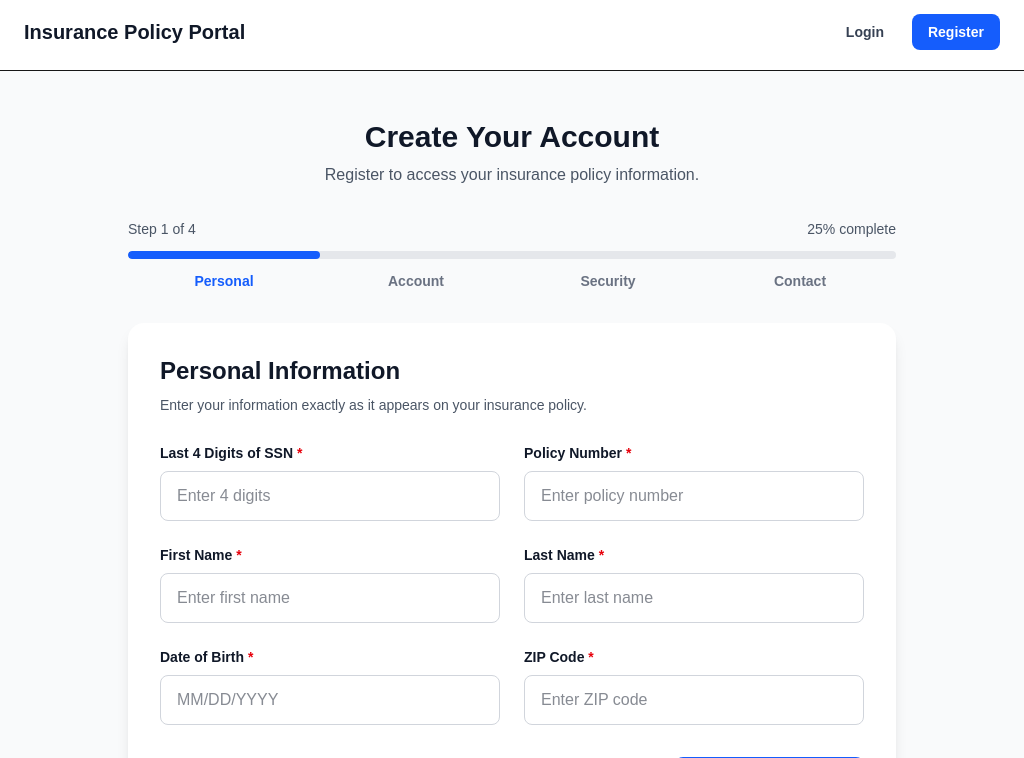
Test case: RegisterPage - Step 1 › should reject a policy number that does not match the accepted format
The image size is (1024, 758).
Type "1234" into the field with placeholder "Enter 4 digits".
click(330, 496); type("1234")  # box [160,471,500,521]
Type "invalid" into the field with placeholder "Enter policy number".
click(694, 496); type("invalid")  # box [524,471,864,521]
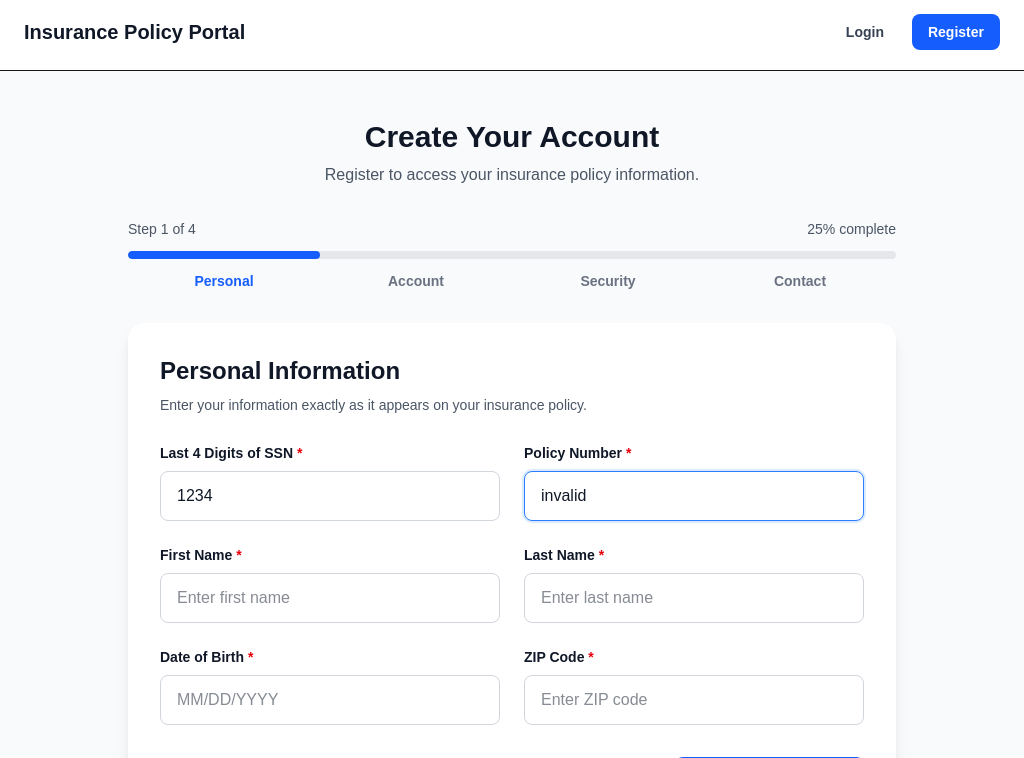
Type "John" into the field with placeholder "Enter first name".
click(330, 598); type("John")  # box [160,573,500,623]
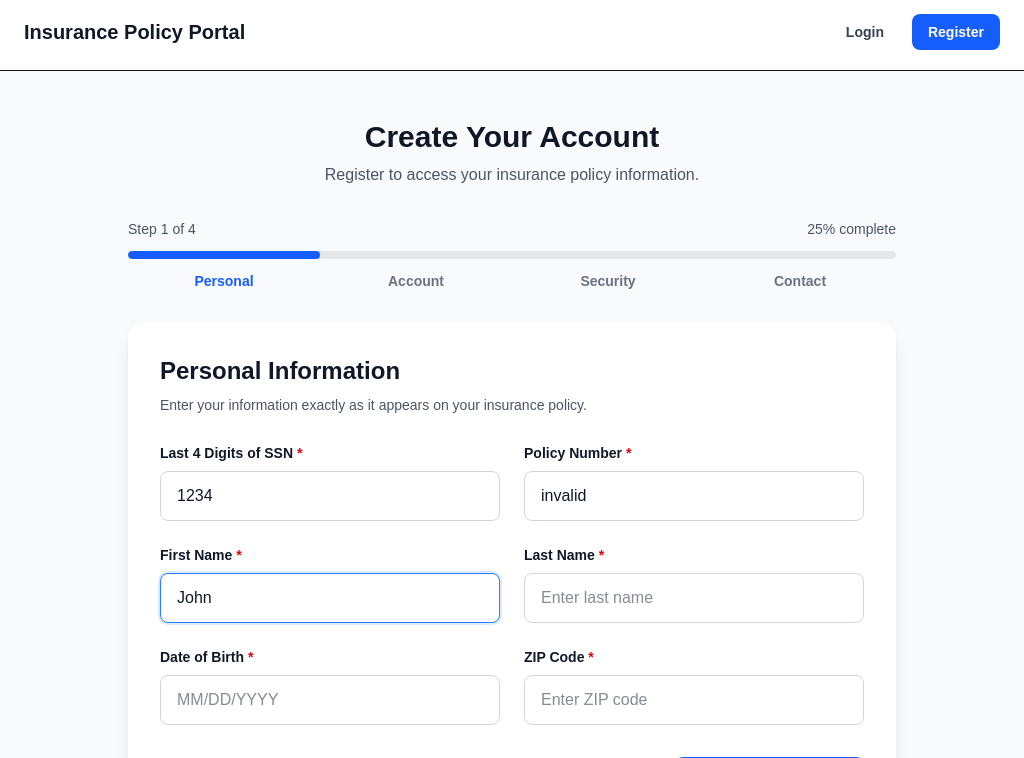
Type "Doe" into the field with placeholder "Enter last name".
click(694, 598); type("Doe")  # box [524,573,864,623]
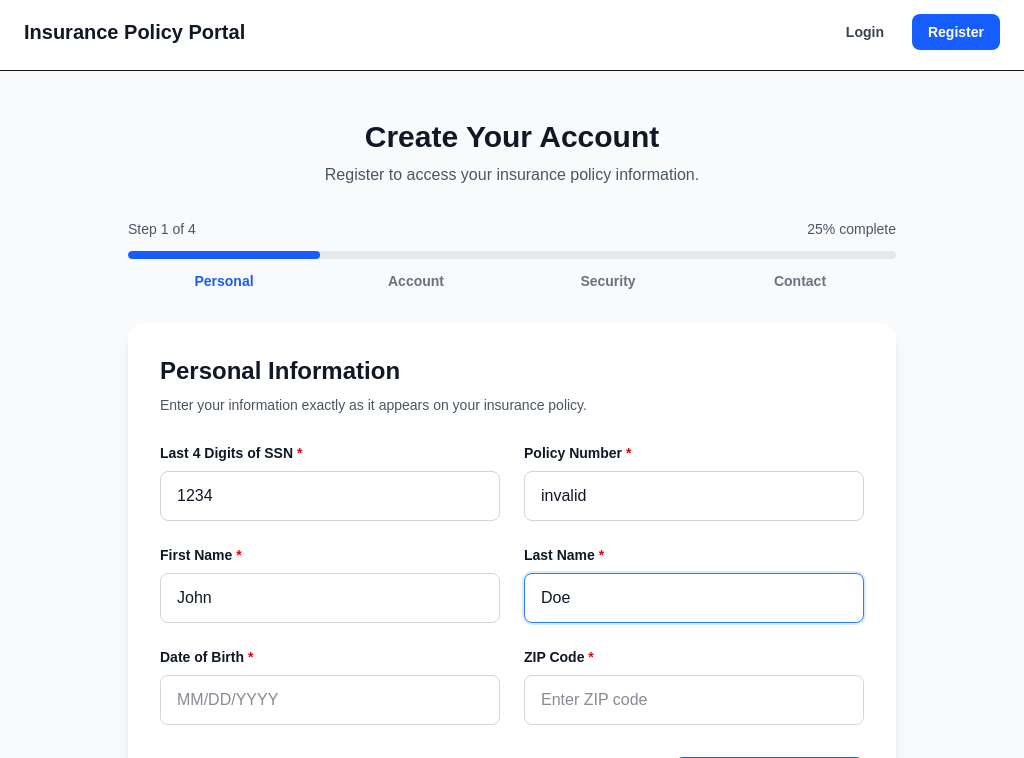
Type "01/15/1990" into the field with placeholder "MM/DD/YYYY".
click(330, 700); type("01/15/1990")  # box [160,675,500,725]
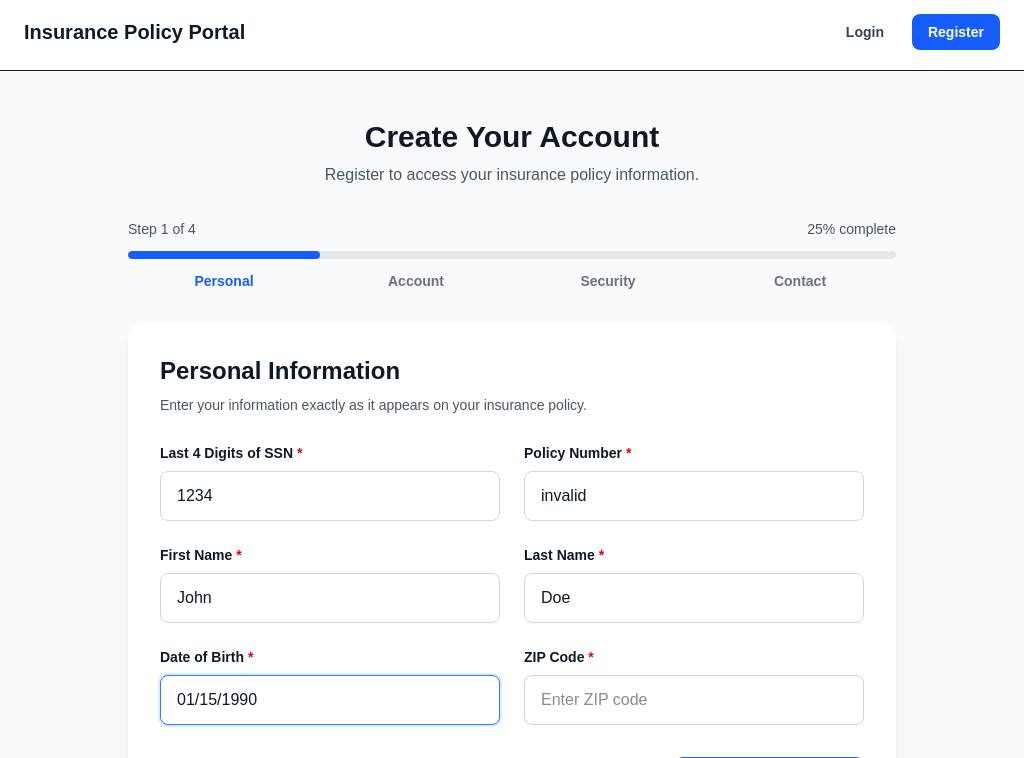
Type "12345" into the field with placeholder "Enter ZIP code".
click(694, 700); type("12345")  # box [524,675,864,725]
(page scrolled)
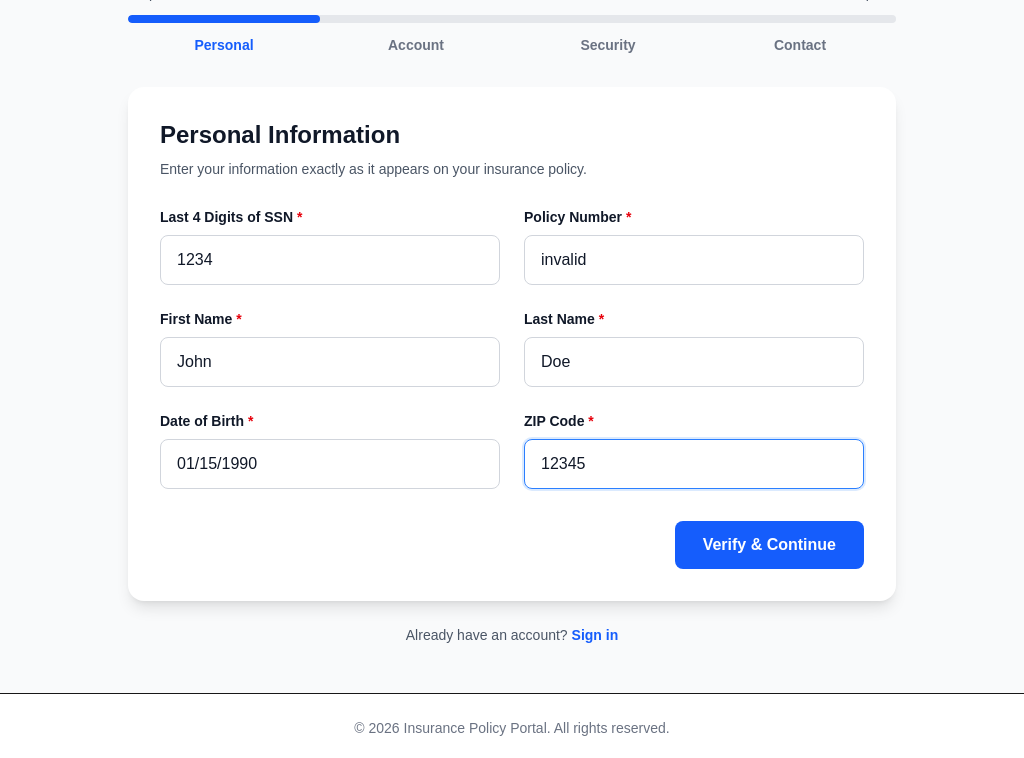
Click the button "Verify & Continue".
click(769, 545)  # box [675,521,864,569]
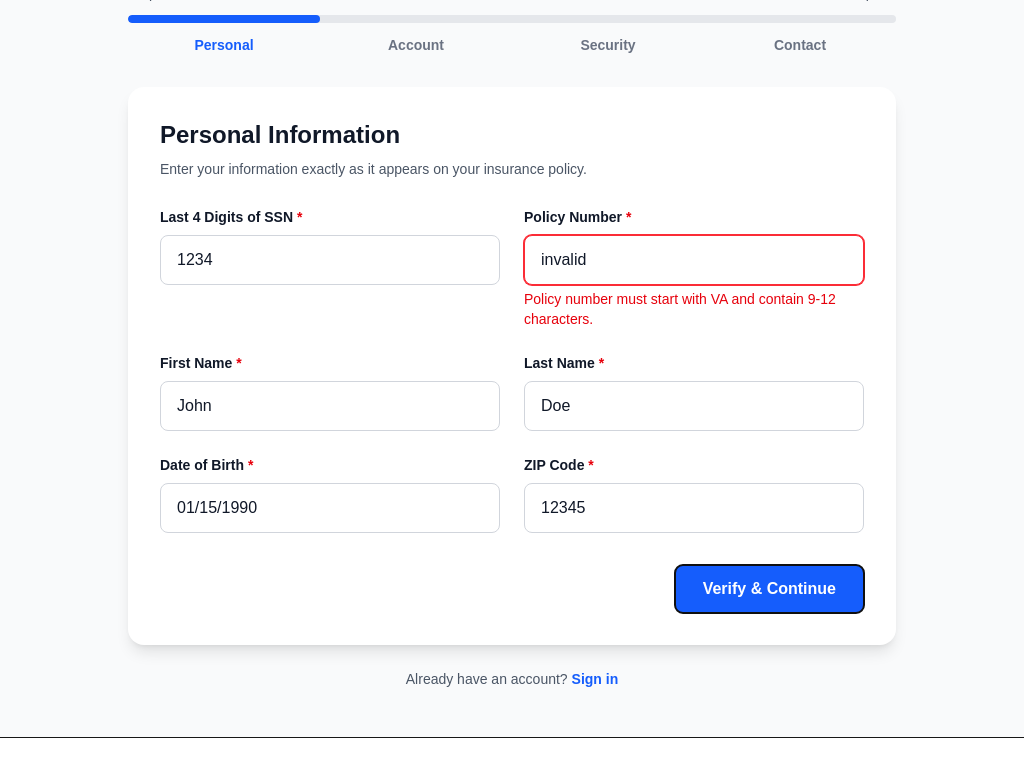
Check: the text "Policy number must start with VA and contain 9-12 characters." is shown, box [524,289,864,329]
